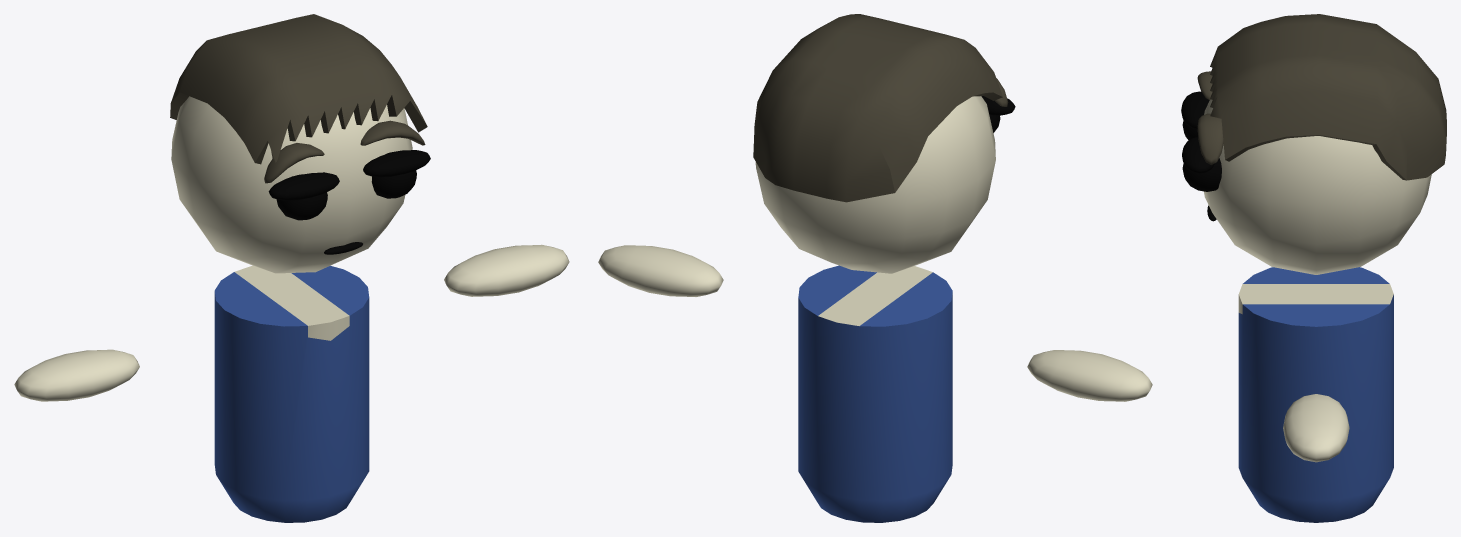
The model's file is Son.fbx.
The picture shows the model from 3 angles, left to right: view 1: azimuth 30°, elevation 25°; view 2: azimuth 150°, elevation 25°; view 3: azimuth 270°, elevation 25°; orthographic projection.
Parts seen in each view (by area): view 1: Body, Head, Hair, Arm_Right, Eye_Left1, Eyelid_Right, Eyelid_Left, Eyebrow_right, Eyebrow_left, Eye_Right, Eye_Left; view 2: Body, Hair, Head, Arm_Right, Eye_Left1; view 3: Body, Hair, Head, Eye_Left1, Eyebrow_left, Eye_Left, Eyelid_Right, Eyelid_Left, Eyebrow_right.
Boxes of the visible parts, x1=… form: Body: x1=214, y1=265, x2=369, y2=522; Head: x1=171, y1=96, x2=412, y2=273; Hair: x1=170, y1=14, x2=427, y2=164; Arm_Right: x1=14, y1=349, x2=139, y2=401; Eye_Left1: x1=444, y1=244, x2=569, y2=296; Eyelid_Right: x1=268, y1=172, x2=339, y2=200; Eyelid_Left: x1=363, y1=150, x2=430, y2=177; Eyebrow_right: x1=264, y1=143, x2=324, y2=183; Eyebrow_left: x1=360, y1=120, x2=425, y2=145; Eye_Right: x1=276, y1=176, x2=327, y2=220; Eye_Left: x1=371, y1=170, x2=416, y2=198; Body: x1=798, y1=265, x2=952, y2=522; Hair: x1=753, y1=14, x2=1002, y2=202; Head: x1=755, y1=96, x2=995, y2=273; Arm_Right: x1=1027, y1=350, x2=1152, y2=401; Eye_Left1: x1=598, y1=245, x2=723, y2=296; Body: x1=1238, y1=267, x2=1393, y2=522; Hair: x1=1210, y1=14, x2=1446, y2=180; Head: x1=1203, y1=99, x2=1431, y2=274; Eye_Left1: x1=1283, y1=394, x2=1349, y2=462; Eyebrow_left: x1=1197, y1=113, x2=1223, y2=164; Eye_Left: x1=1182, y1=158, x2=1221, y2=191; Eyelid_Right: x1=1181, y1=91, x2=1209, y2=129; Eyelid_Left: x1=1182, y1=137, x2=1214, y2=173; Eyebrow_right: x1=1197, y1=71, x2=1212, y2=99.
Bounding box in the file's own units: 1037 × 828 × 435.
